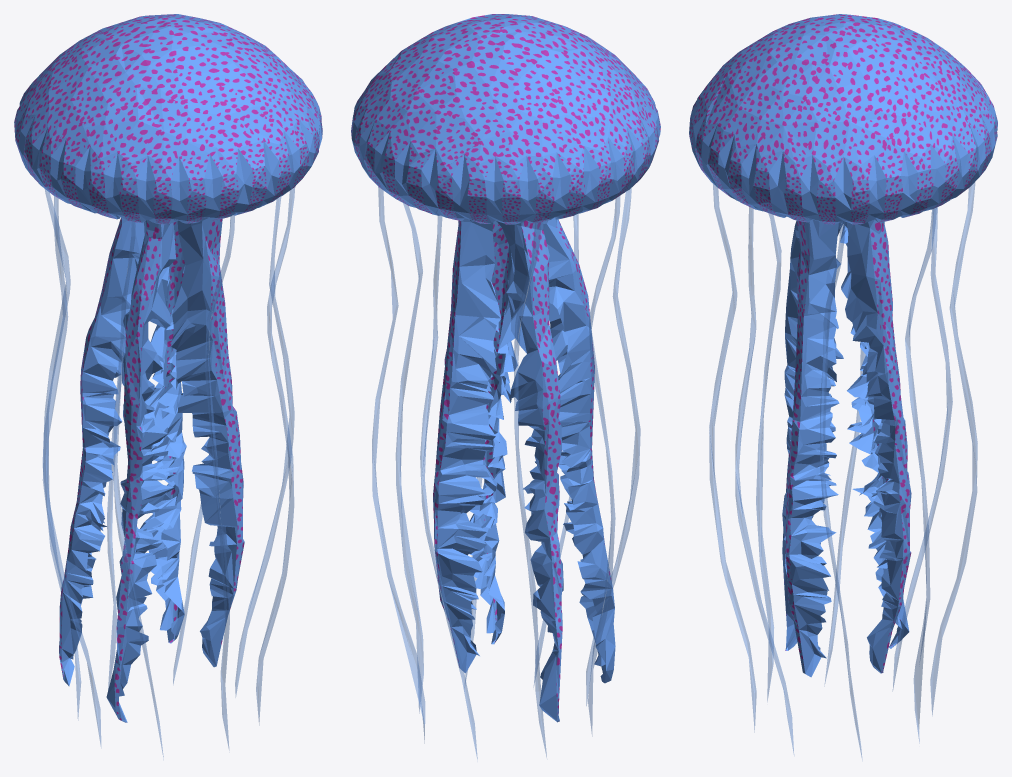
The model's file is jellyfish.glb.
3 renders of one model, left to right at view 1: azimuth 30°, elevation 25°; view 2: azimuth 150°, elevation 25°; view 3: azimuth 270°, elevation 25°, orthographic.
Visible parts, largest first — view 1: Cylinder001_Material001_0, BezierCurve001_Material001_0; view 2: Cylinder001_Material001_0, BezierCurve001_Material001_0; view 3: Cylinder001_Material001_0, BezierCurve001_Material001_0.
Boxes of the visible parts, box(x1,y1,x2,y2) form: Cylinder001_Material001_0: box(14, 14, 322, 722); BezierCurve001_Material001_0: box(42, 187, 295, 759); Cylinder001_Material001_0: box(351, 14, 660, 722); BezierCurve001_Material001_0: box(372, 186, 640, 759); Cylinder001_Material001_0: box(689, 14, 997, 677); BezierCurve001_Material001_0: box(709, 182, 977, 760).
Size of the model in its own units: 0.9188 by 2.29 by 0.9188.
2 materials, 2 textured.
